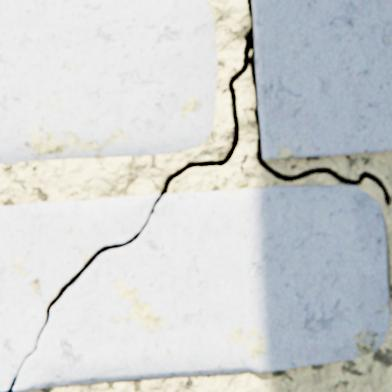brick: (0, 0, 217, 163), (252, 0, 391, 159)
broken_brick: (15, 185, 389, 389), (0, 194, 159, 390)
crack: (0, 0, 390, 391)
